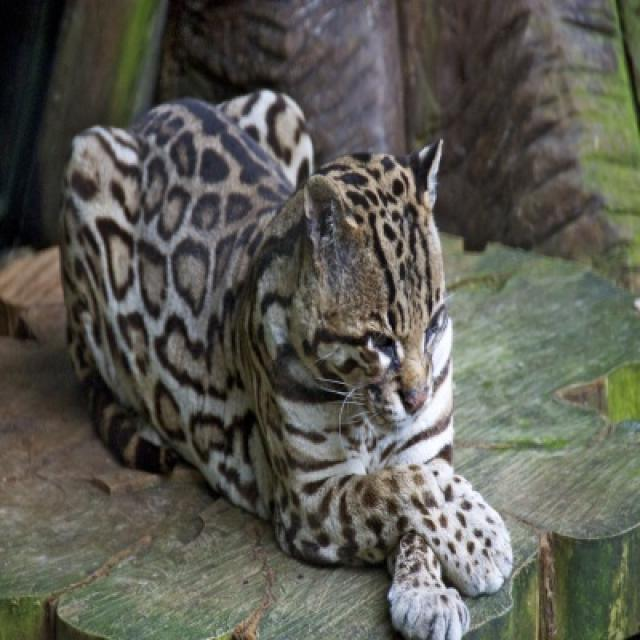Jaguar: (58, 91, 515, 638)
